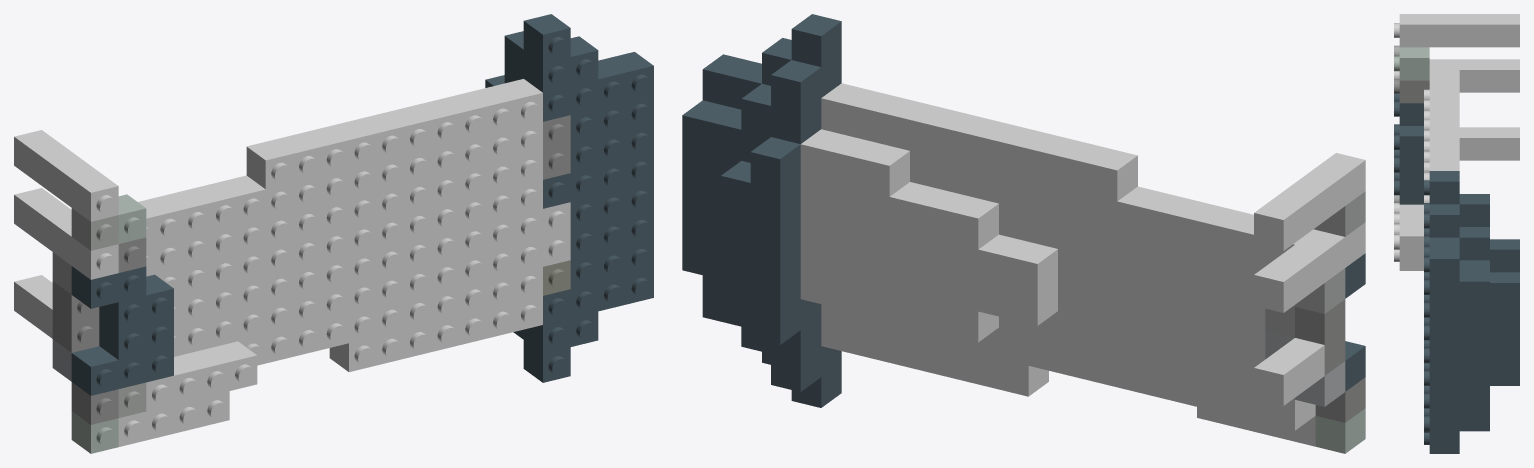
The model's file is full.glb.
3 renders of one model, left to right at view 1: azimuth 30°, elevation 25°; view 2: azimuth 150°, elevation 25°; view 3: azimuth 270°, elevation 25°, orthographic. The views are drawn at different scales.
Parts seen in each view (by area): view 1: world; view 2: world; view 3: world.
Boxes of the visible parts, box(x1,y1,x2,y2) form: world: box(14, 14, 653, 453); world: box(682, 14, 1365, 453); world: box(1394, 14, 1519, 453).
Bounding box in the file's own units: 168 × 96 × 40.2.
